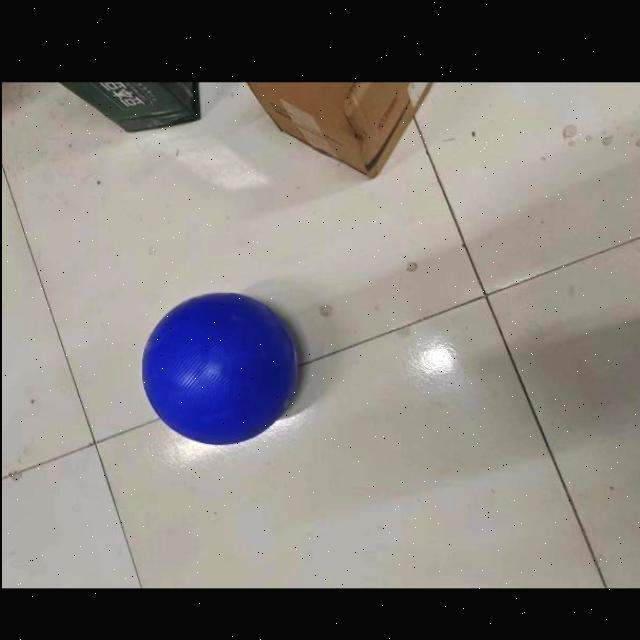B: (138, 286, 304, 450)
